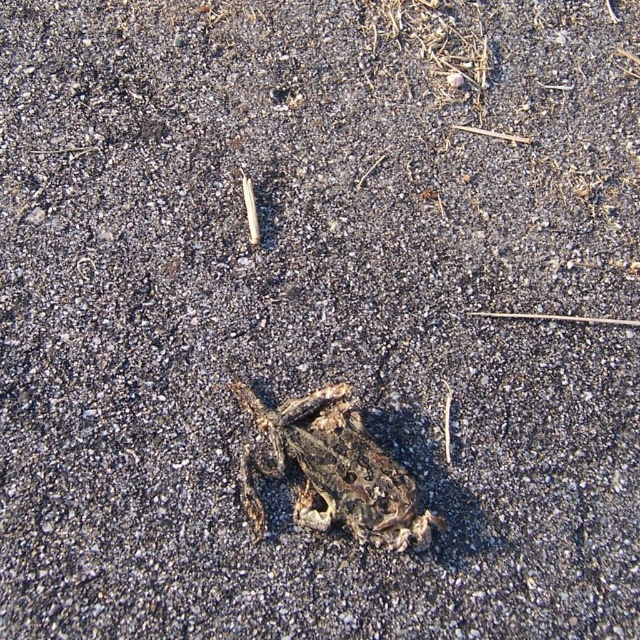Frog: (226, 375, 444, 553)
